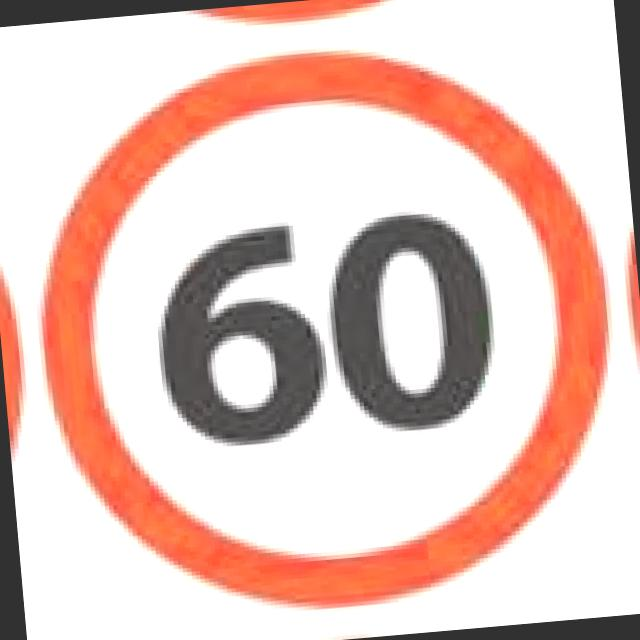Ograniczenie predkosci do 60: (11, 21, 625, 623)
